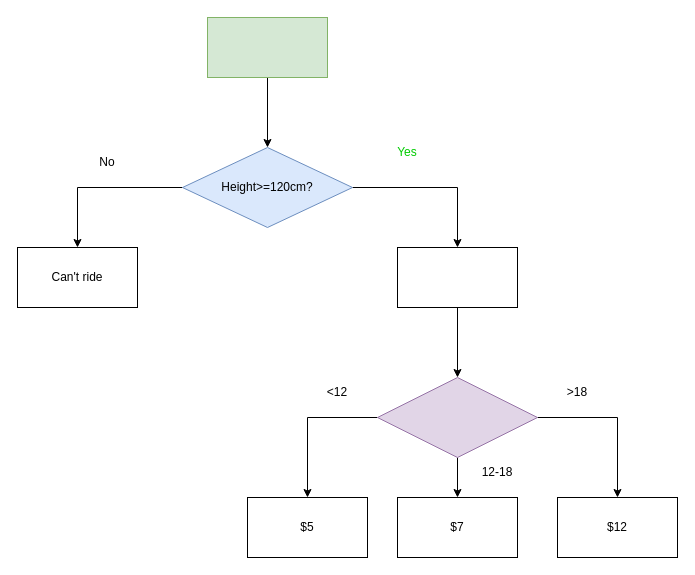
The diagram is 695 pixels wide and 575 high, and some of its shapes have lost their labels. Each missing label, with the box of its shape:
Age?: (376, 376, 538, 458)
Can ride: (396, 246, 518, 308)
Start: (206, 16, 328, 78)
